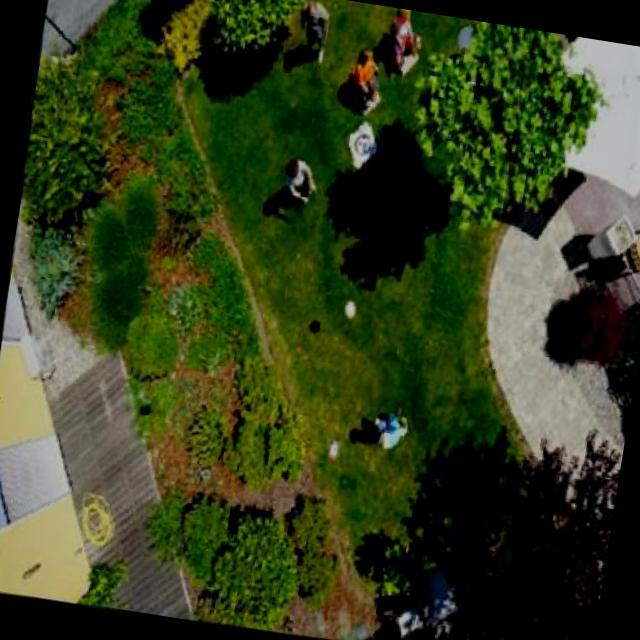Person: (276, 147, 334, 214), (364, 398, 426, 460), (285, 0, 343, 64), (339, 45, 388, 118), (384, 8, 429, 70)
